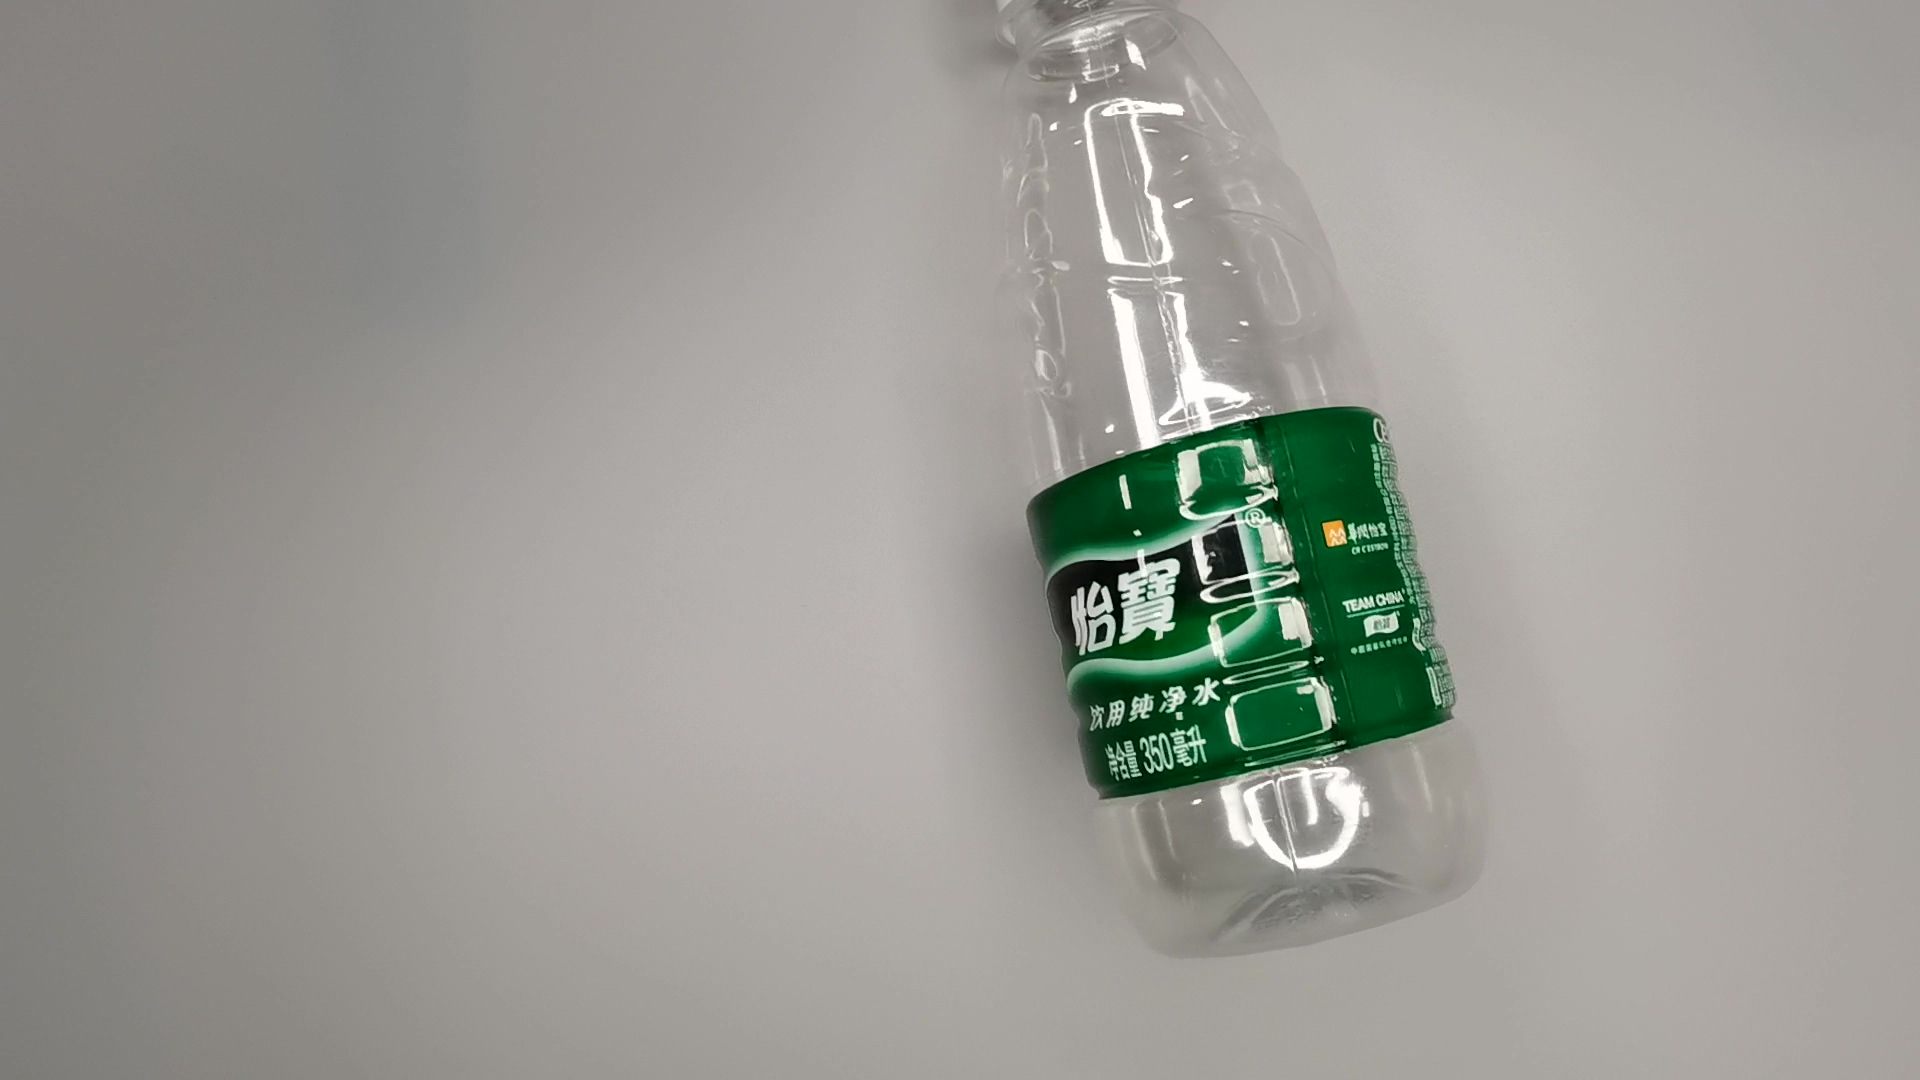bottle: (1004, 1, 1506, 963)
